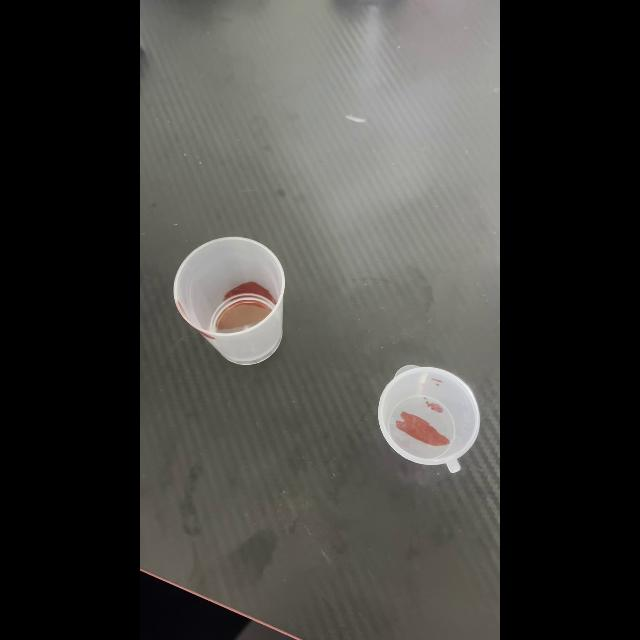dirty: (172, 232, 292, 368), (378, 364, 484, 476)
